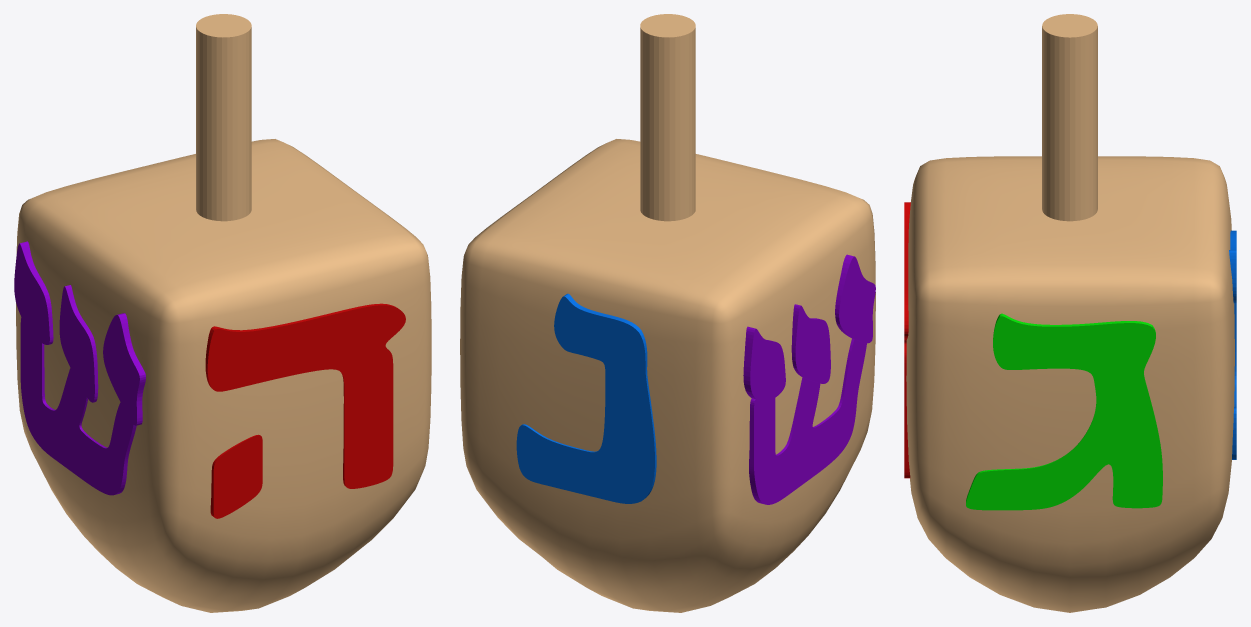
The model's file is sevivon.glb.
The picture shows the model from 3 angles, left to right: view 1: azimuth 30°, elevation 25°; view 2: azimuth 150°, elevation 25°; view 3: azimuth 270°, elevation 25°; orthographic projection.
Visible parts, largest first — view 1: Body, Hey, Shin, Stem; view 2: Body, Shin, Nun, Stem; view 3: Body, Gimmel, Stem, Hey, Nun.
Part boxes in pixels (x1,y1,x2,y2): Body: [16, 139, 431, 612]; Hey: [205, 303, 405, 518]; Shin: [14, 241, 145, 495]; Stem: [196, 14, 251, 221]; Body: [460, 139, 875, 612]; Shin: [743, 254, 875, 504]; Nun: [516, 293, 656, 503]; Stem: [640, 14, 695, 221]; Body: [906, 156, 1234, 612]; Gimmel: [966, 313, 1162, 510]; Stem: [1042, 14, 1097, 221]; Hey: [904, 202, 910, 478]; Nun: [1229, 230, 1236, 459].
Size of the model in its own units: 1.01 by 1.92 by 1.
